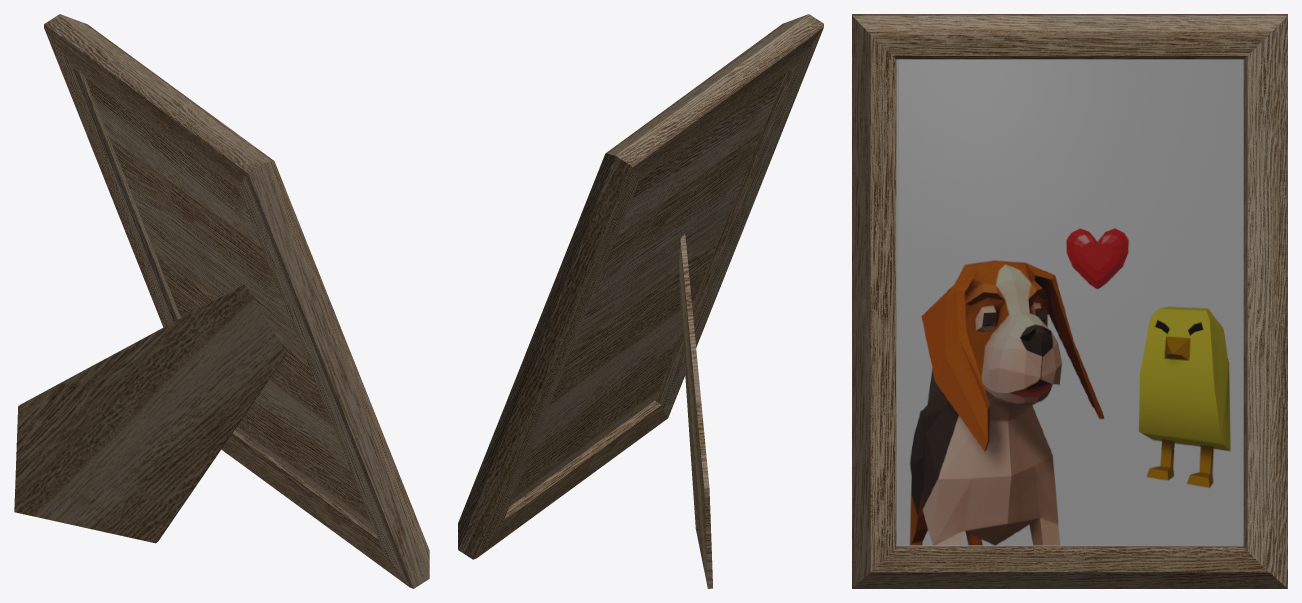
File: photoframe_dog.fbx
The picture shows the model from 3 angles, left to right: view 1: azimuth 30°, elevation 25°; view 2: azimuth 150°, elevation 25°; view 3: azimuth 270°, elevation 25°; orthographic projection. The views are drawn at different scales.
Visible parts, largest first — view 1: Cube.000; view 2: Cube.000; view 3: Cube.000.
Part boxes in pixels (<box>): Cube.000: <box>14,14,429,588</box>; Cube.000: <box>458,14,823,588</box>; Cube.000: <box>852,14,1287,588</box>.
Size of the model in its own units: 141 by 250 by 200.
